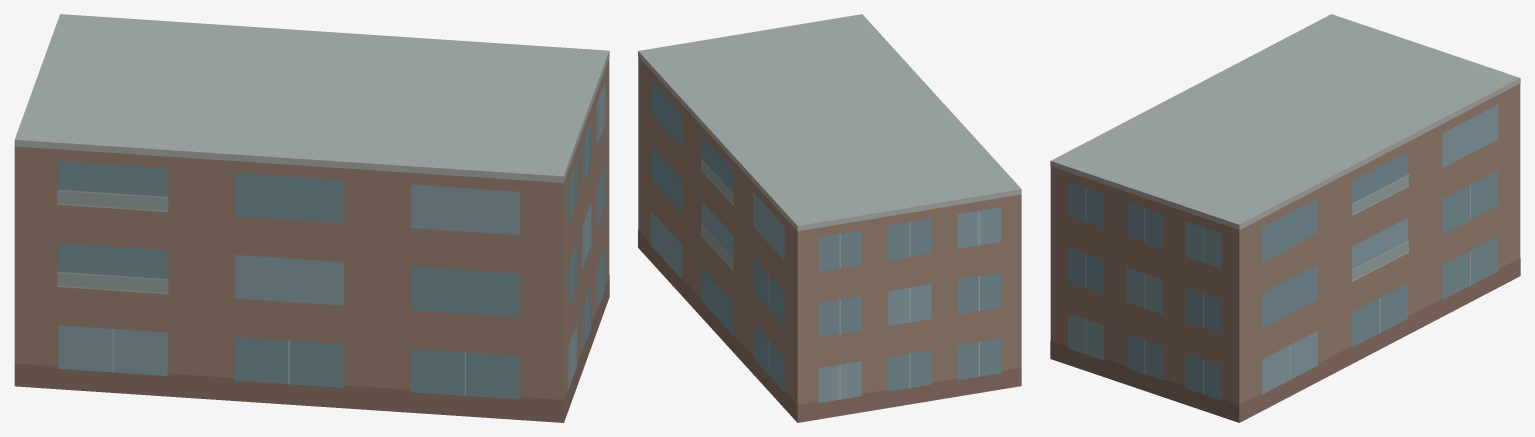
File: survey-upis-32775378.glb
The picture shows the model from 3 angles, left to right: view 1: azimuth 30°, elevation 25°; view 2: azimuth 150°, elevation 25°; view 3: azimuth 270°, elevation 25°; orthographic projection. The views are drawn at different scales.
Parts seen in each view (by area): view 1: survey-upis-32775378.tmp; view 2: survey-upis-32775378.tmp; view 3: survey-upis-32775378.tmp.
Part boxes in pixels (left/top/right/bottom): survey-upis-32775378.tmp: left=14, top=14, right=609, bottom=422; survey-upis-32775378.tmp: left=638, top=14, right=1021, bottom=422; survey-upis-32775378.tmp: left=1050, top=14, right=1520, bottom=422.
Bounding box in the file's own units: 20.9 × 9.15 × 19.68.
